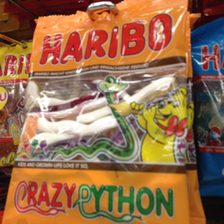candy: (10, 3, 201, 223)
